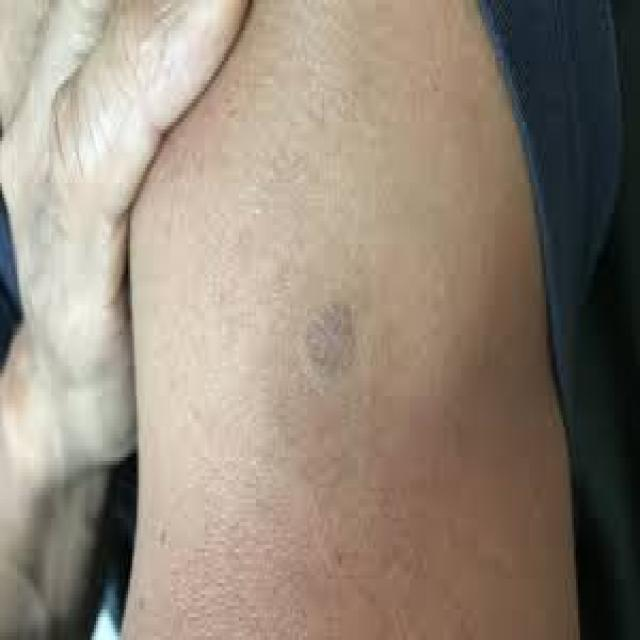Eczema: (250, 293, 430, 569)
